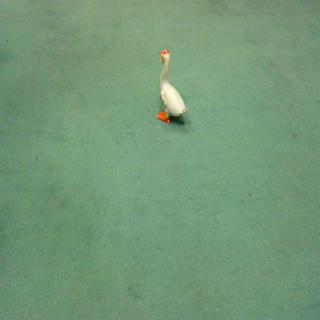duck: (145, 45, 198, 135)
